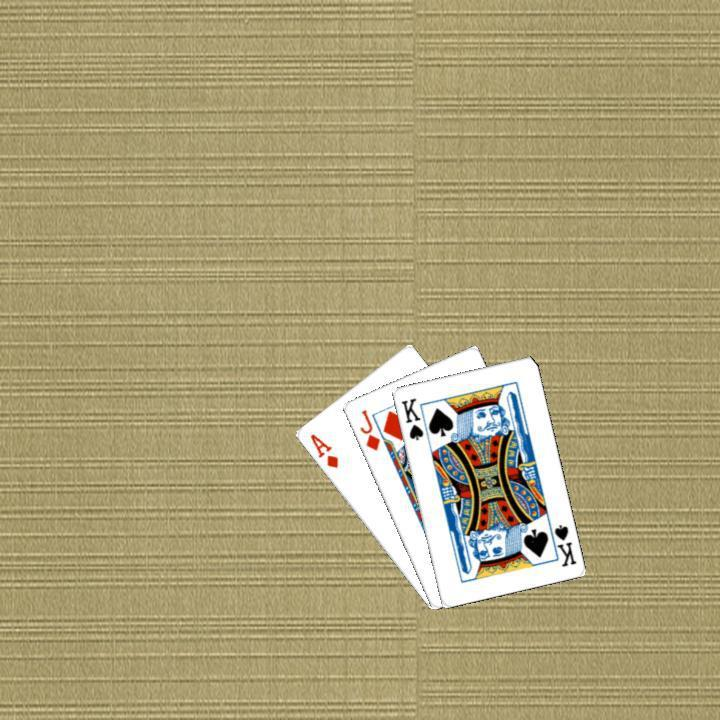A: (305, 429, 340, 470)
J: (355, 405, 382, 453)
K: (544, 518, 578, 568), (396, 393, 425, 442)
